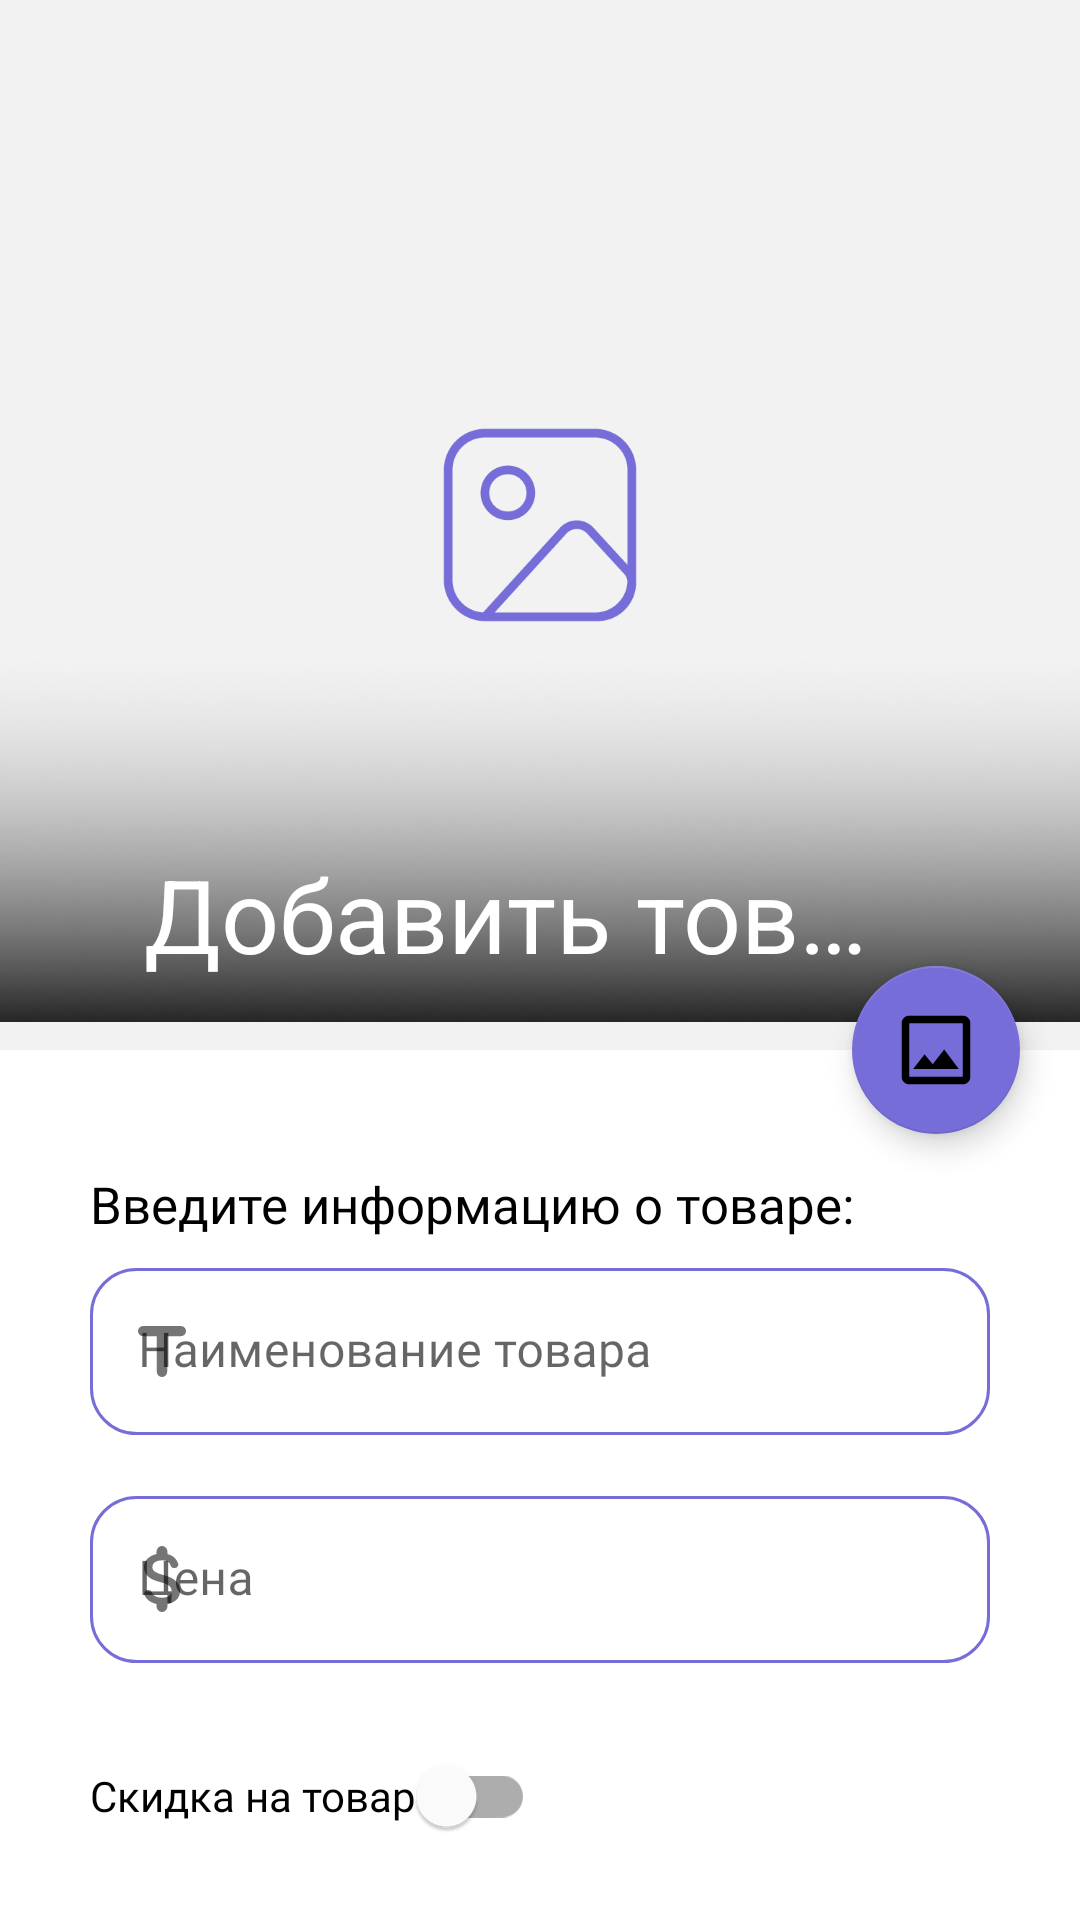

Named icons in this screenshot (1080×1920) and their centers, (x=x, y=y):
choose fab: (x=936, y=1050)
